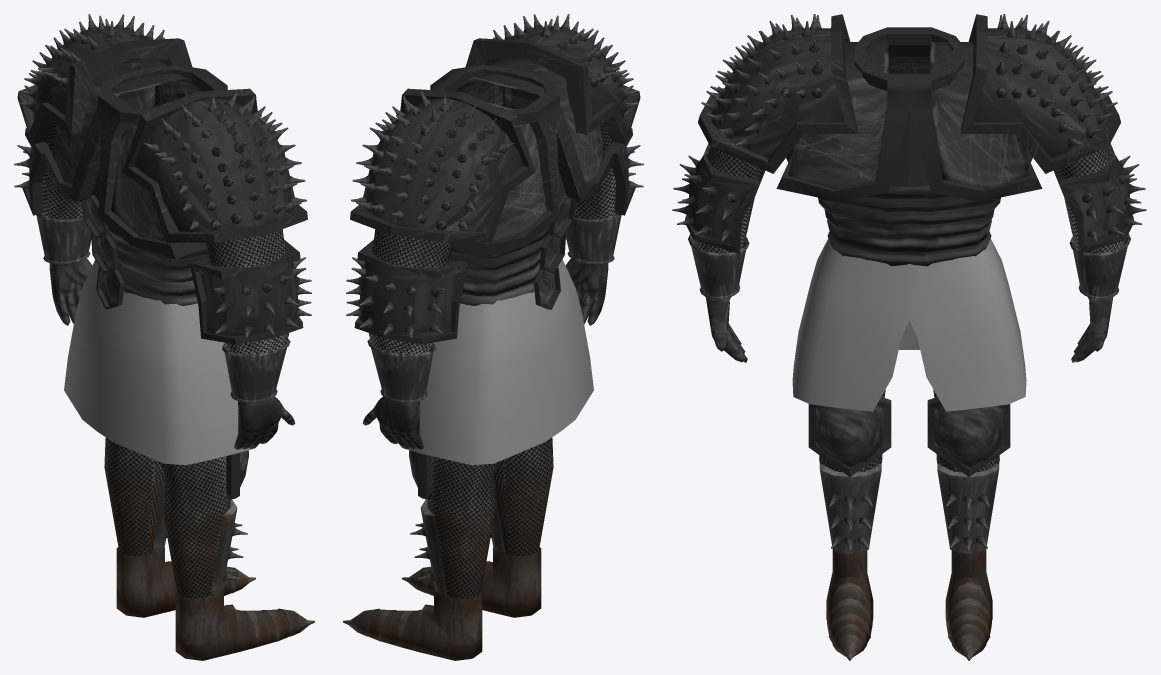
Rendered from knight_2.FBX.
3 views of the same model, side by side, from view 1: azimuth 30°, elevation 25°; view 2: azimuth 150°, elevation 25°; view 3: azimuth 270°, elevation 25° (orthographic).
Visible parts, largest first — view 1: knight2; view 2: knight2; view 3: knight2.
Part boxes in pixels (x1,y1,x2,y2): knight2: (14,14,314,660); knight2: (343,14,643,660); knight2: (672,14,1146,660).
Size of the model in its own units: 419 by 1162 by 862.
